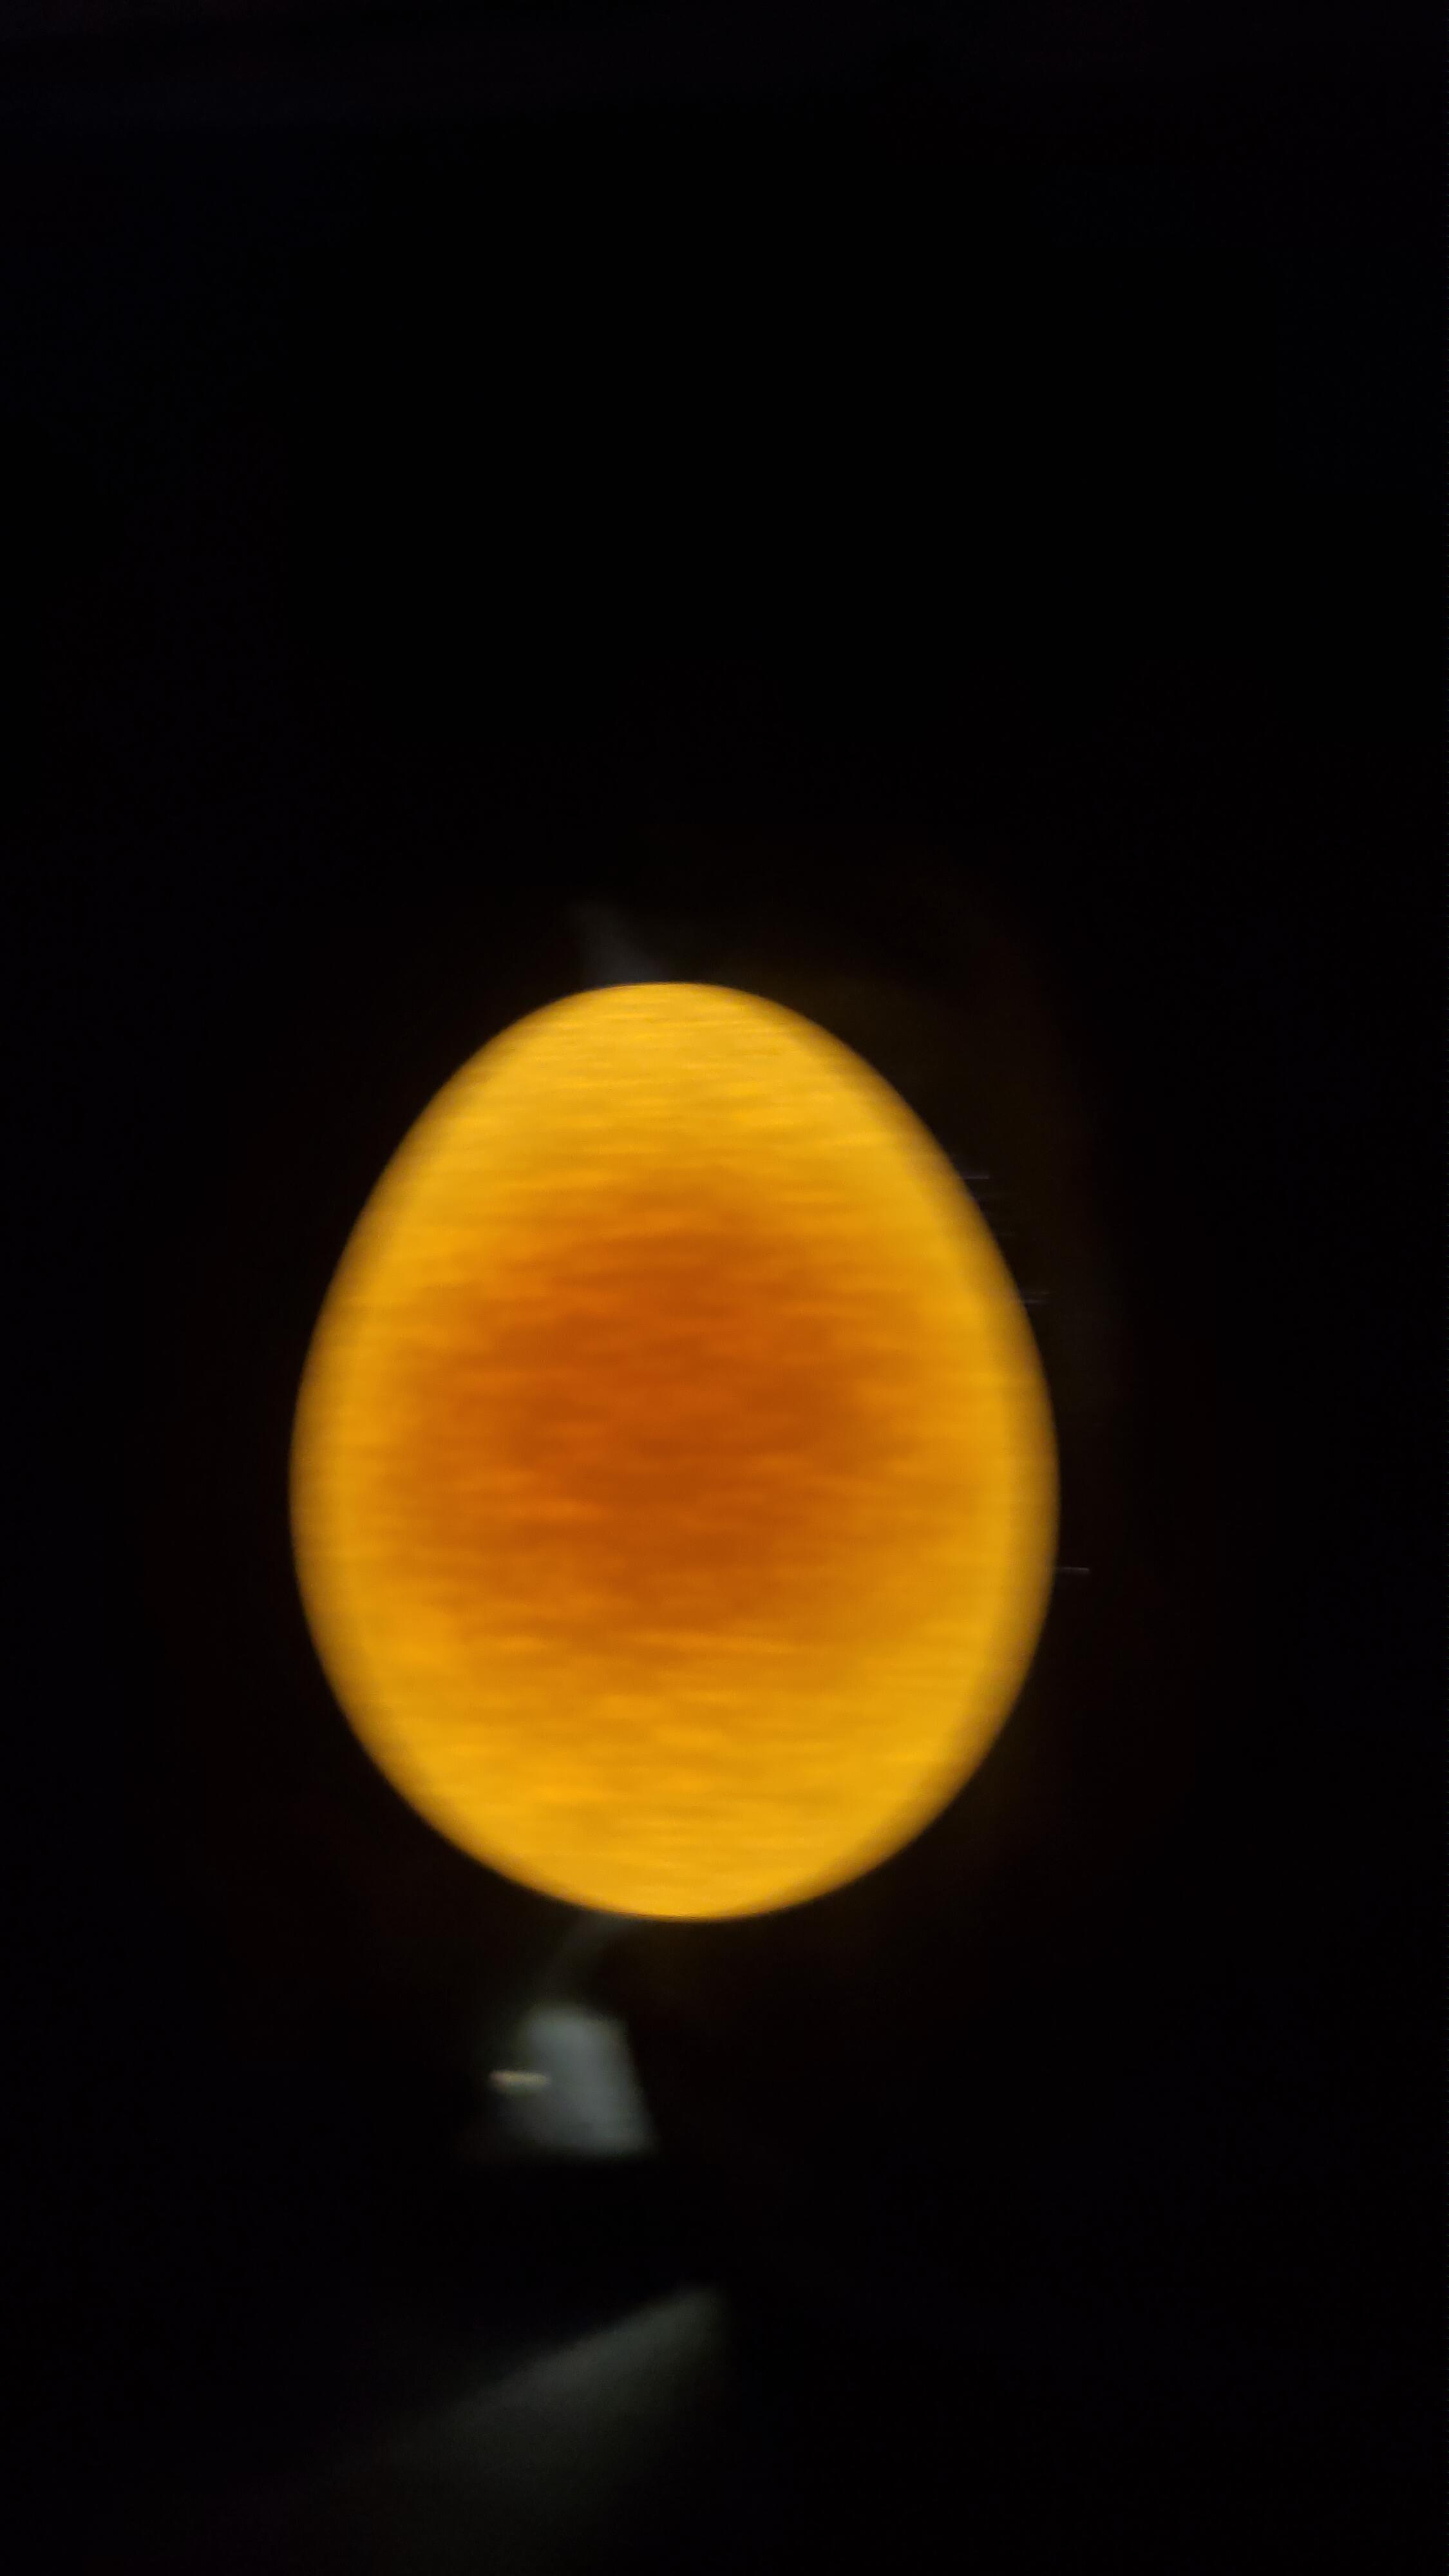A - Good: (239, 959, 1127, 1964)
